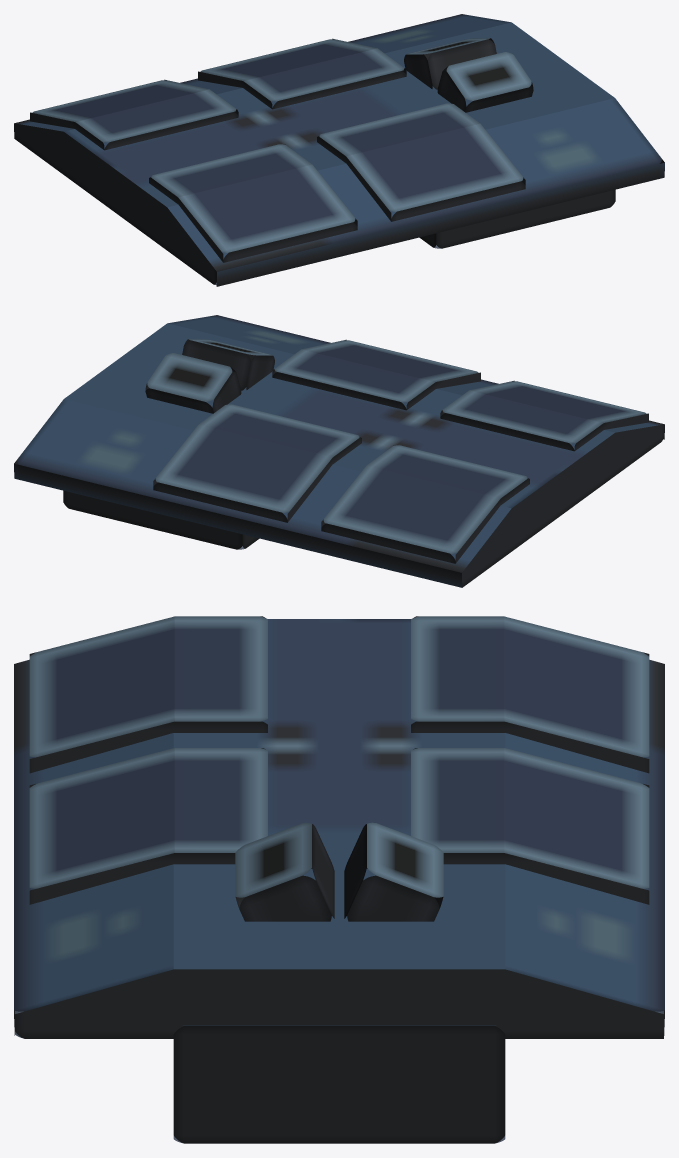
File: df11g_chimney_lh.obj
3 views of the same model, one above another, from view 1: azimuth 30°, elevation 25°; view 2: azimuth 150°, elevation 25°; view 3: azimuth 270°, elevation 25° (orthographic). The views are drawn at different scales.
Visible parts, largest first — view 1: cube_selection_selection_selection_selection; view 2: cube_selection_selection_selection_selection; view 3: cube_selection_selection_selection_selection.
Boxes of the visible parts, x1,y1,x2,y2 form: cube_selection_selection_selection_selection: (14,14,664,286); cube_selection_selection_selection_selection: (14,315,664,587); cube_selection_selection_selection_selection: (14,616,664,1143).
Bounding box in the file's own units: 2.5 × 0.7426 × 1.96.
